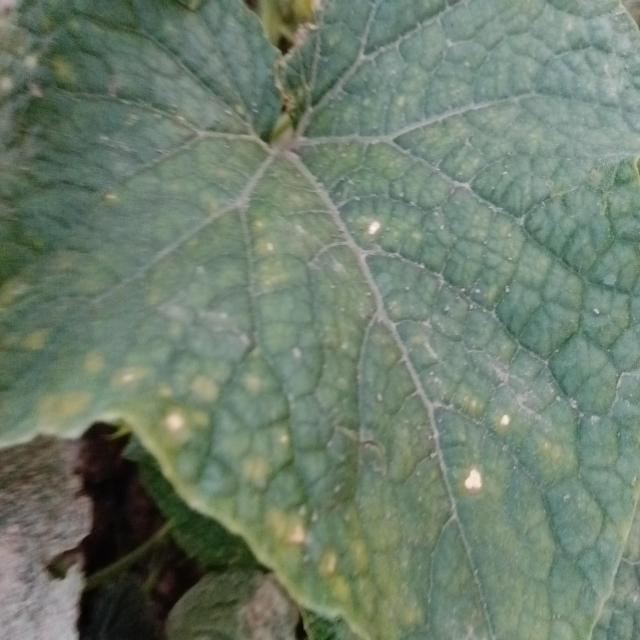cucumber_downy: (2, 0, 638, 608)
